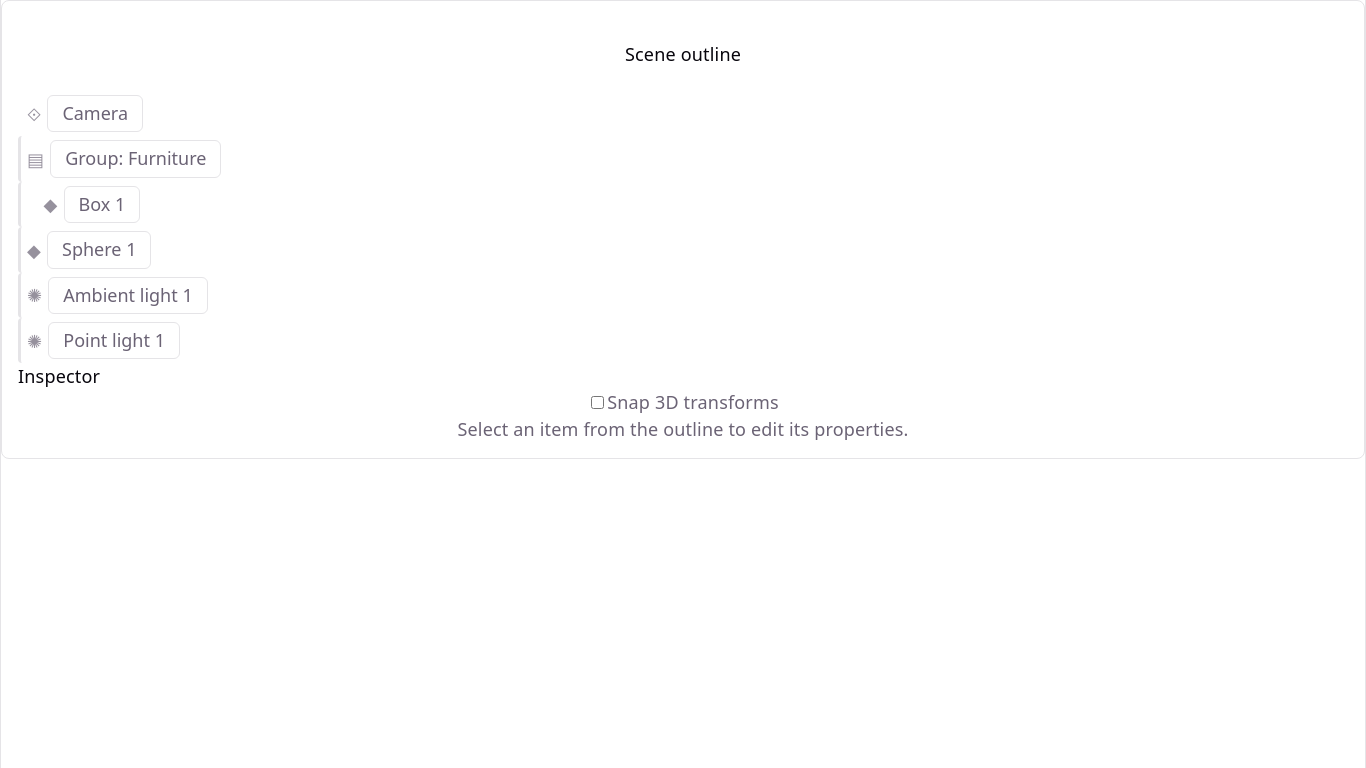
Scenario: Outline3DInspector › shows a read-only camera summary on selection
The width and height of the screenshot is (1366, 768).
Click the button "Camera".
click(95, 114)  # box [47, 95, 143, 132]
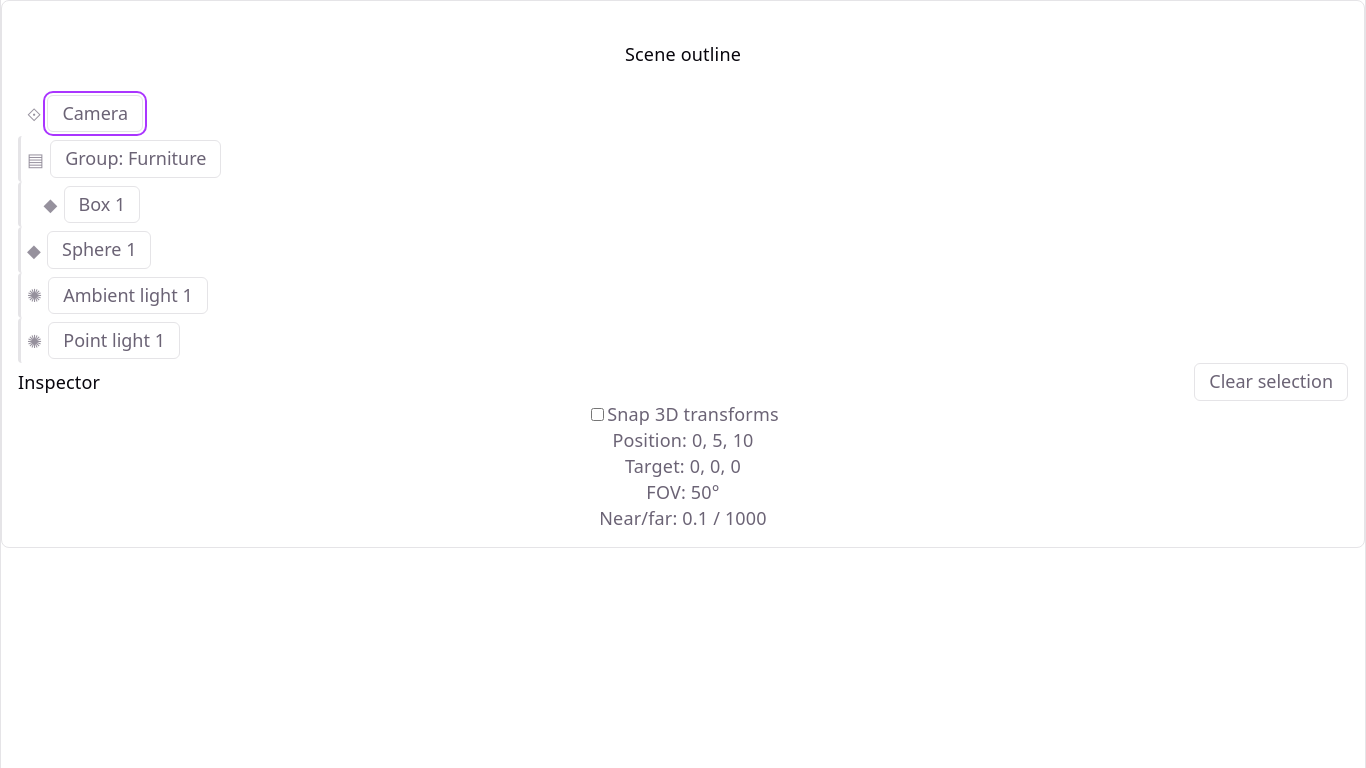
Now the element with test id "camera-summary" shows "FOV: 50°", box [599, 428, 767, 530]
